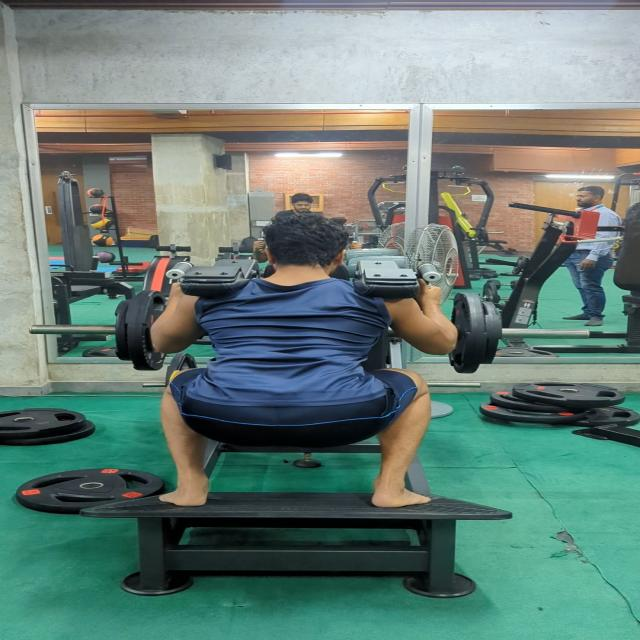Normal_SquatsWithBarbell: (121, 199, 474, 521)
